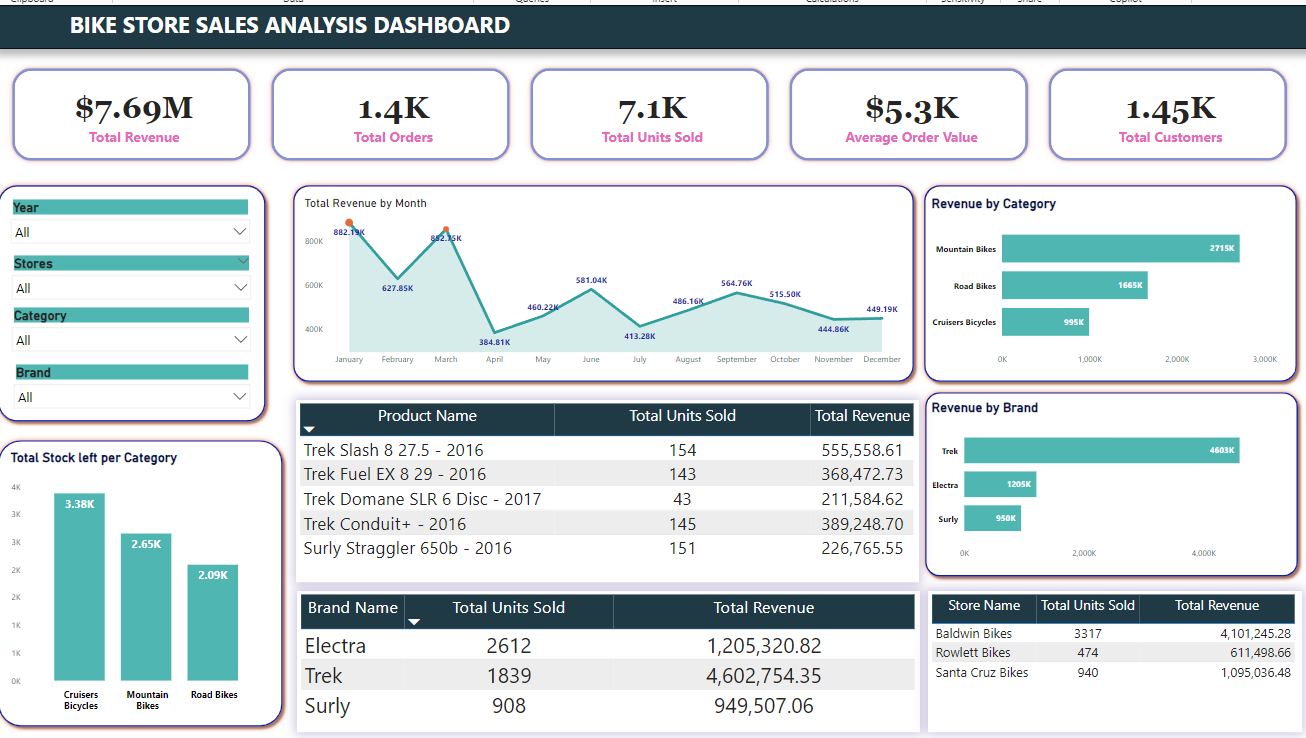

The dashboard page shown, as its layout file describes it:
{"tool":"powerbi","page":{"name":"Page 1","canvas":[1920,1080],"ordinal":0},"visuals":[{"type":"cardVisual","fields":{"Data":["production brands.Total Revenue","production brands.Total Orders","production brands.Total Units Sold","production brands.Average Order Value","production brands.Total Customers"]},"box":[0,64.2,1920,191.1],"z":0},{"type":"shape","box":[430.4,255.3,920.6,302],"z":1000},{"type":"textbox","box":[0,0,1920,64.2],"z":2000},{"type":"lineChart","fields":{"Category":["sales orders.order_date.Variation.Date Hierarchy.Month"],"Y":["production brands.Total Revenue"]},"box":[449.4,278.7,884.1,256.8],"z":3000},{"type":"shape","box":[0,627.4,430.4,433.3],"z":4000},{"type":"shape","box":[1351,255.3,558.8,302],"z":5000},{"type":"clusteredBarChart","title":" Revenue by Category","fields":{"Category":["production categories.category_name"],"Y":["production brands.Total Revenue"]},"box":[1364.1,278.7,535.4,256.8],"z":6000},{"type":"shape","box":[1352.5,557.3,558.8,284.5],"z":7000},{"type":"clusteredBarChart","title":"Revenue by Brand","fields":{"Category":["production brands.brand_name"],"Y":["production brands.Total Revenue"]},"box":[1364.1,576.3,535.4,242.2],"z":8000},{"type":"tableEx","fields":{"Values":["production brands.brand_name","production brands.Total Units Sold","production brands.Total Revenue"]},"box":[443.5,855,908.9,205.7],"z":9000},{"type":"tableEx","fields":{"Values":["production products.product_name","production brands.Total Units Sold","production brands.Total Revenue"]},"box":[442.1,576.3,908.9,265.5],"z":10000},{"type":"tableEx","fields":{"Values":["sales stores.store_name","production brands.Total Units Sold","production brands.Total Revenue"]},"box":[1364.1,855,545.7,205.7],"z":11000},{"type":"shape","box":[0,255.3,405.6,360.4],"z":11001},{"type":"slicer","fields":{"Values":["sales orders.order_date.Variation.Date Hierarchy.Year"]},"box":[16,278.7,369.1,75.9],"z":11002},{"type":"slicer","fields":{"Values":["sales stores.store_name"]},"box":[17.5,360.4,369.1,75.9],"z":11003},{"type":"slicer","fields":{"Values":["production brands.brand_name"]},"box":[20.4,519.4,364.7,75.9],"z":11005},{"type":"slicer","fields":{"Values":["production categories.category_name"]},"box":[17.5,436.2,369.1,75.9],"z":11006},{"type":"columnChart","title":"Total Stock left per Category","fields":{"Y":["Sum(production stocks.quantity)"],"Category":["production categories.category_name"]},"box":[20.4,649.2,385.2,389.5],"z":11007}]}

Visuals, with their boxes in screenshot pixels (x1, y1, x2, y2):
cardVisual - production brands.Total Revenue x production brands.Total Orders: bbox(0, 48, 1305, 181)
shape: bbox(272, 181, 912, 391)
textbox: bbox(0, 3, 1305, 48)
lineChart - sales orders.order_date.Variation.Date Hierarchy.Month x production brands.Total Revenue: bbox(285, 197, 900, 376)
shape: bbox(0, 440, 272, 737)
shape: bbox(912, 181, 1301, 391)
" Revenue by Category" clusteredBarChart: bbox(921, 197, 1294, 376)
shape: bbox(913, 391, 1302, 589)
"Revenue by Brand" clusteredBarChart: bbox(921, 404, 1294, 573)
tableEx - production brands.brand_name x production brands.Total Units Sold: bbox(281, 598, 913, 737)
tableEx - production products.product_name x production brands.Total Units Sold: bbox(280, 404, 912, 589)
tableEx - sales stores.store_name x production brands.Total Units Sold: bbox(921, 598, 1301, 737)
shape: bbox(0, 181, 255, 432)
slicer - sales orders.order_date.Variation.Date Hierarchy.Year: bbox(0, 197, 241, 250)
slicer - sales stores.store_name: bbox(0, 254, 242, 307)
slicer - production brands.brand_name: bbox(0, 365, 241, 417)
slicer - production categories.category_name: bbox(0, 307, 242, 360)
"Total Stock left per Category" columnChart: bbox(0, 455, 255, 726)
